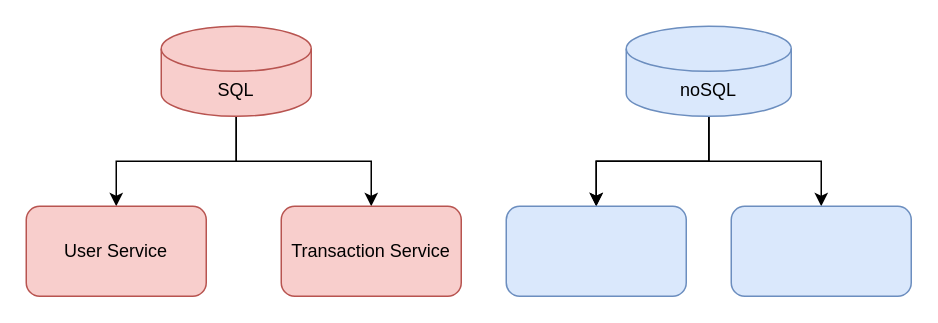
This 938x323 diagram has some shape labels left out. The shapes that lost their labels are listed below. From the top down, each one's centre as x and y in pixels, then its label:
At (x=595, y=250): "Live Chat Service".
At (x=820, y=250): "Products & Deals Service".
